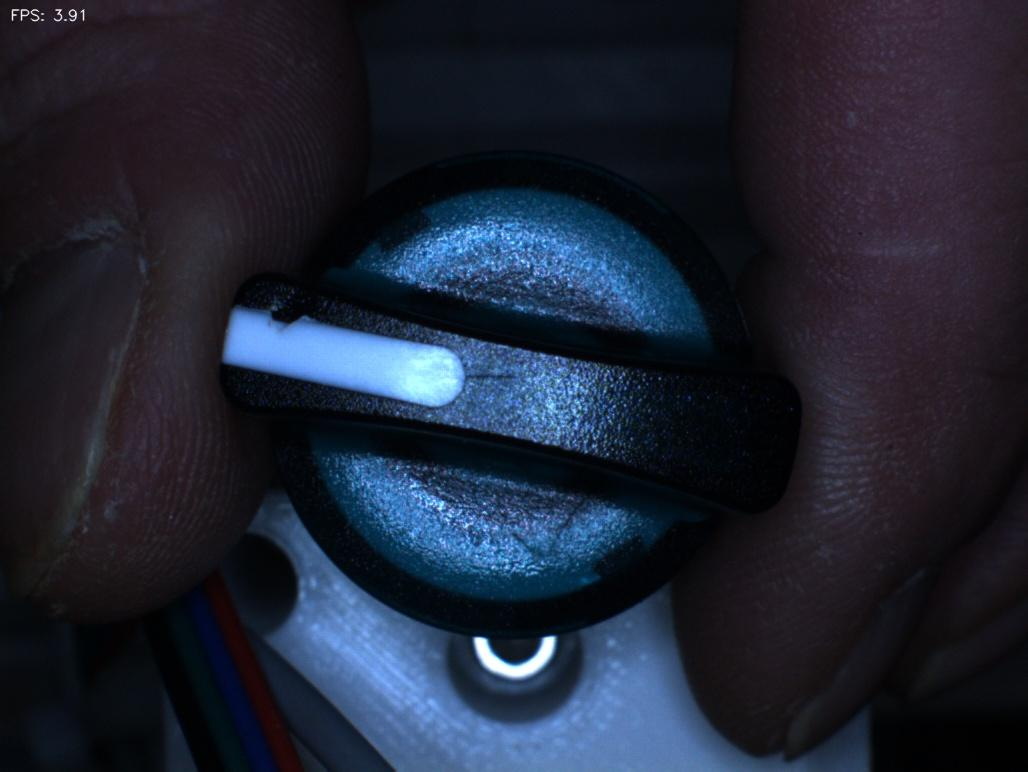Choc: (229, 261, 343, 359)
